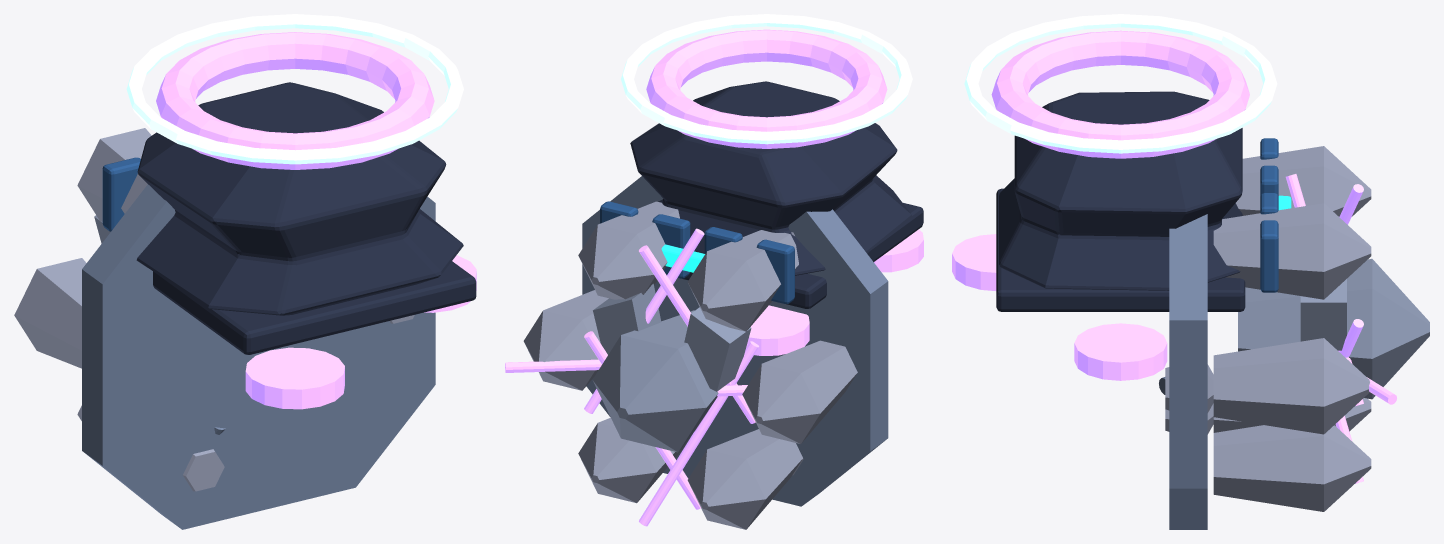
The model's file is lumen_power.glb.
The picture shows the model from 3 angles, left to right: view 1: azimuth 30°, elevation 25°; view 2: azimuth 150°, elevation 25°; view 3: azimuth 270°, elevation 25°; orthographic projection. The views are drawn at different scales.
Visible parts, largest first — view 1: Geometric levitation plinth, Bipolar flux reactor · split-waist housing, Primary flux containment ring, Phase-locking outer band, Floating central armor slab, Flux stabilizer 3, Flux suspension pad.002, Flux stabilizer 2, Vector distribution node, Faceted gravitic foot.002; view 2: Bipolar flux reactor · split-waist housing, Geometric levitation plinth, Primary flux containment ring, Central phase core, Phase-locking outer band, Flux stabilizer 3, Flux stabilizer 4, Flux stabilizer 2, Flux stabilizer 1, Flux stabilizer 0, Flux stabilizer 5, Reactor ceramic heat shield (+14 smaller); view 3: Bipolar flux reactor · split-waist housing, Primary flux containment ring, Geometric levitation plinth, Flux stabilizer 0, Flux stabilizer 5, Central phase core, Phase-locking outer band, Flux stabilizer 1, Floating central armor slab, Flux stabilizer 2, Flux suspension pad, Reactor ceramic heat shield.001 (+3 smaller).
Boxes of the visible parts, x1,y1,x2,y2 form: Geometric levitation plinth: (82, 184, 435, 529); Bipolar flux reactor · split-waist housing: (136, 82, 463, 315); Primary flux containment ring: (156, 32, 434, 169); Phase-locking outer band: (126, 14, 463, 164); Floating central armor slab: (153, 261, 476, 354); Flux stabilizer 3: (14, 258, 86, 368); Flux suspension pad.002: (245, 347, 344, 409); Flux stabilizer 2: (77, 128, 151, 221); Vector distribution node: (102, 157, 140, 231); Faceted gravitic foot.002: (183, 449, 224, 491); Bipolar flux reactor · split-waist housing: (630, 81, 912, 275); Geometric levitation plinth: (582, 176, 888, 506); Primary flux containment ring: (646, 29, 887, 148); Central phase core: (592, 310, 718, 452); Phase-locking outer band: (621, 14, 912, 144); Flux stabilizer 3: (742, 340, 857, 443); Flux stabilizer 4: (687, 429, 802, 529); Flux stabilizer 2: (687, 230, 798, 331); Flux stabilizer 1: (578, 201, 679, 299); Flux stabilizer 0: (523, 290, 608, 390); Flux stabilizer 5: (578, 417, 689, 503); Reactor ceramic heat shield: (684, 307, 751, 391); Bipolar flux reactor · split-waist housing: (999, 91, 1242, 290); Primary flux containment ring: (991, 30, 1249, 158); Geometric levitation plinth: (1169, 214, 1207, 529); Flux stabilizer 0: (1213, 338, 1369, 434); Flux stabilizer 5: (1213, 425, 1371, 511); Central phase core: (1238, 258, 1429, 399); Phase-locking outer band: (964, 14, 1277, 153); Flux stabilizer 1: (1213, 203, 1371, 299); Floating central armor slab: (996, 188, 1245, 311); Flux stabilizer 2: (1236, 146, 1371, 216); Flux suspension pad: (1074, 323, 1167, 380); Reactor ceramic heat shield.001: (1300, 279, 1346, 350).
Bounding box in the file's own units: 1.84 × 2.26 × 2.37.
